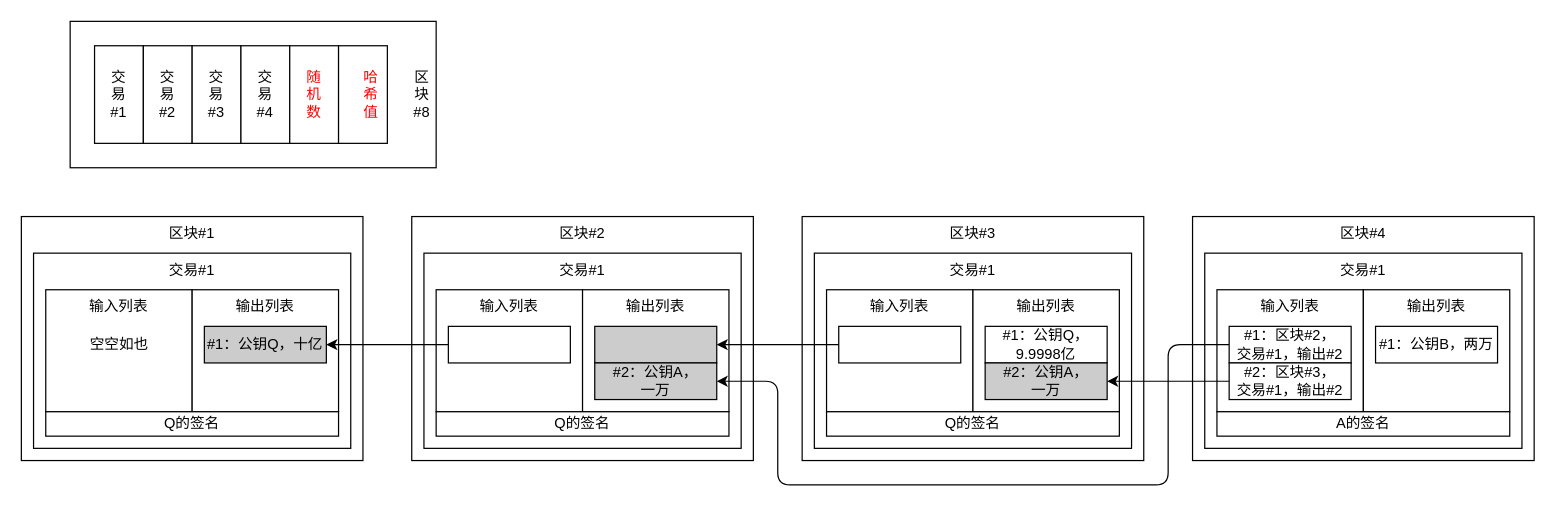
This 1556x516 diagram has some shape labels left out. The centre of each missing label's shape, as x and y in pixels:
"#1：公钥Q，9.9999亿" belongs at point (655, 344).
"#1：区块#1， 交易#1，输出#1" belongs at point (508, 344).
"#1：区块#2， 交易#1，输出#1" belongs at point (899, 344).
